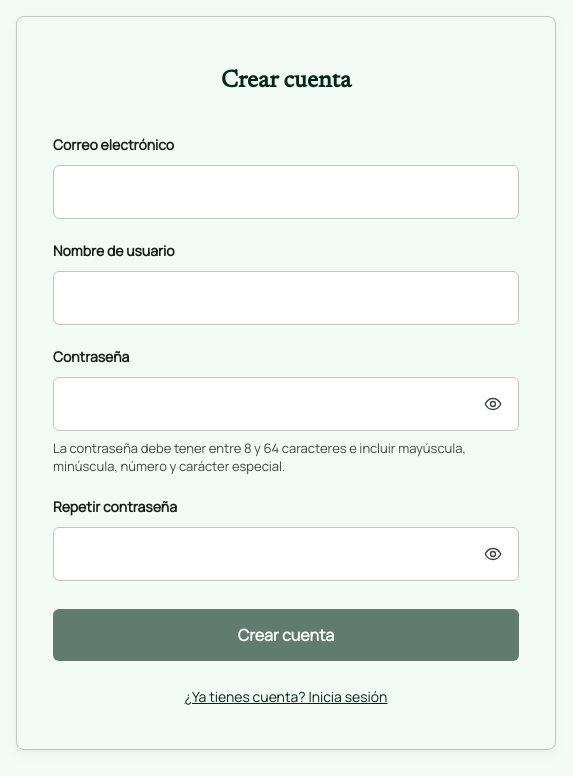
Scenario: Register Page › handles 429 rate limit error
Type "hortelano@example.com" into the field labelled "Correo electrónico" at (286, 192), box [53,165,519,219]
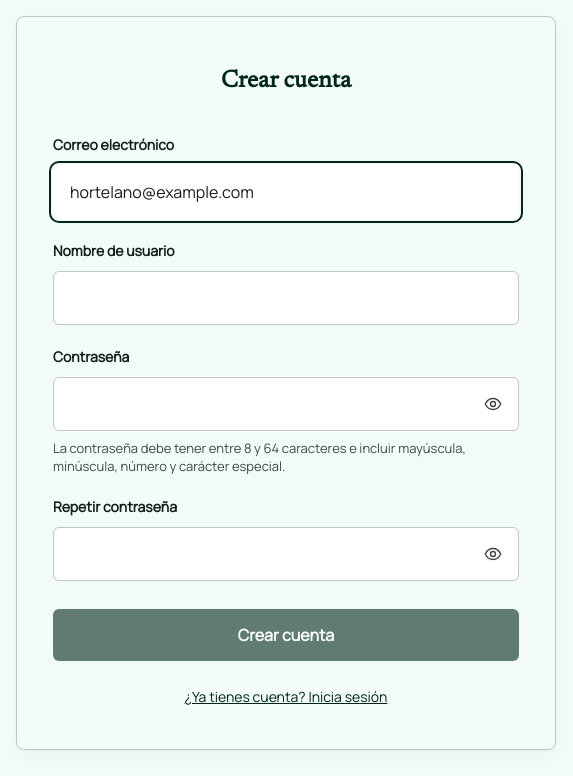
Type "hortelano" into the field labelled "Nombre de usuario" at (286, 298), box [53,271,519,325]
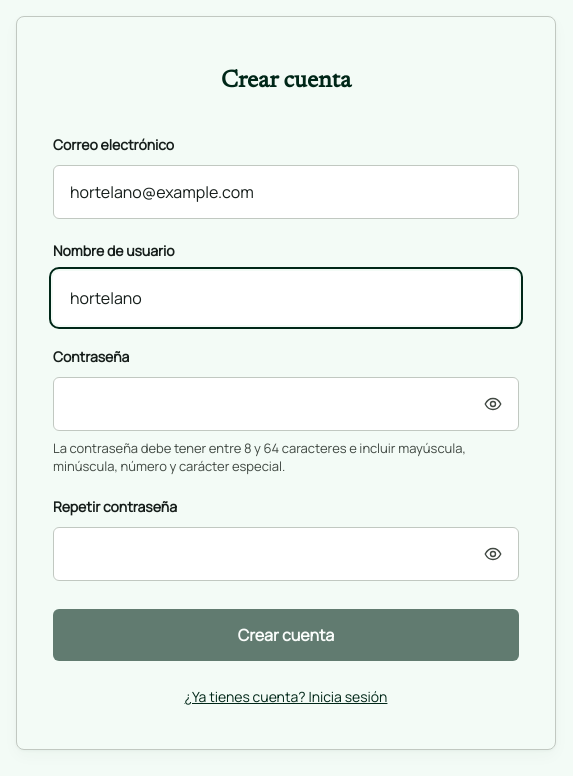
Type "Password123!" into the password field labelled "Contraseña" at (286, 404), box [53,377,519,431]
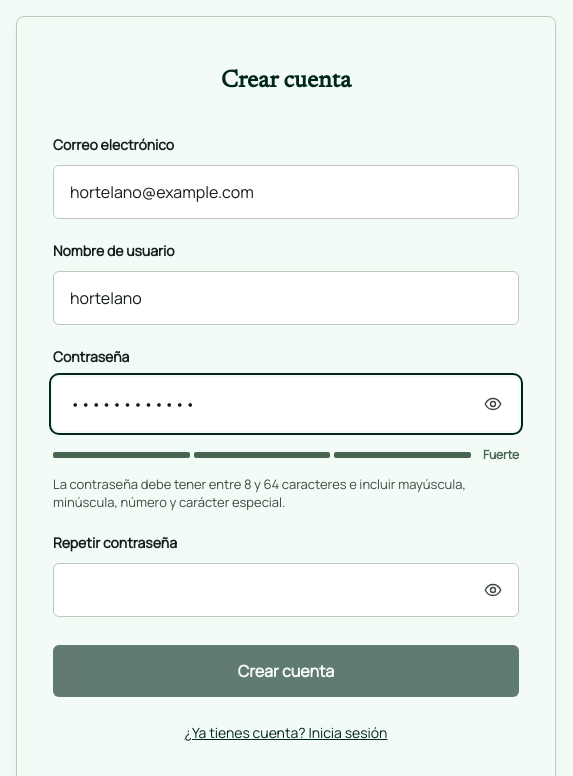
Type "Password123!" into the password field labelled "Repetir contraseña" at (286, 590), box [53,563,519,617]
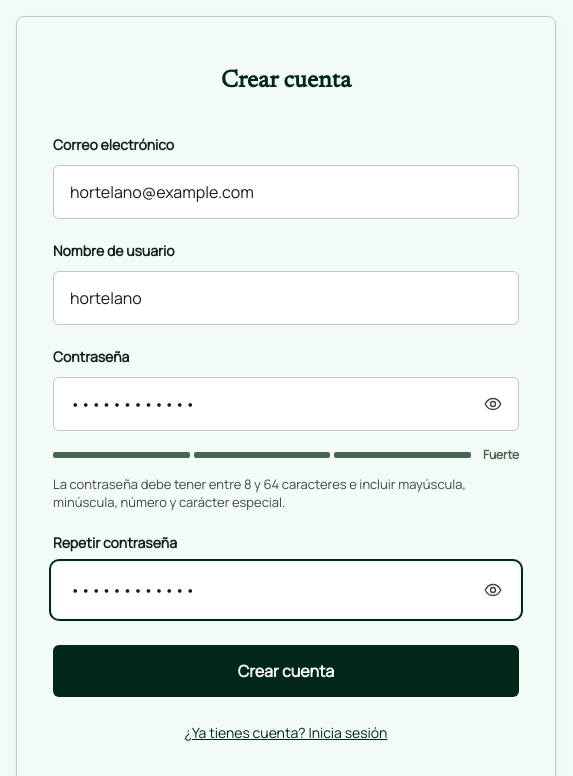
Click the button "Crear cuenta" at (286, 671), box [53,645,519,697]
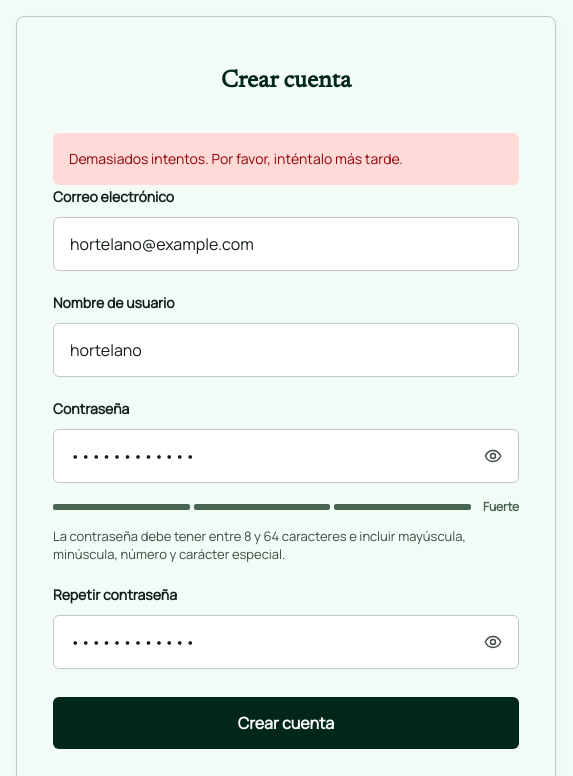
Check: the text "Demasiados intentos. Por favor, inténtalo más tarde." is shown, box [53,133,519,185]
